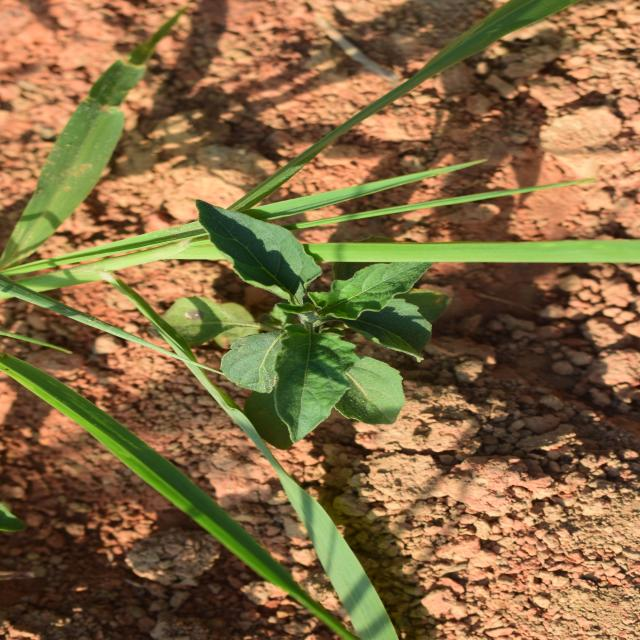Black_nightshade: (212, 207, 404, 453)
